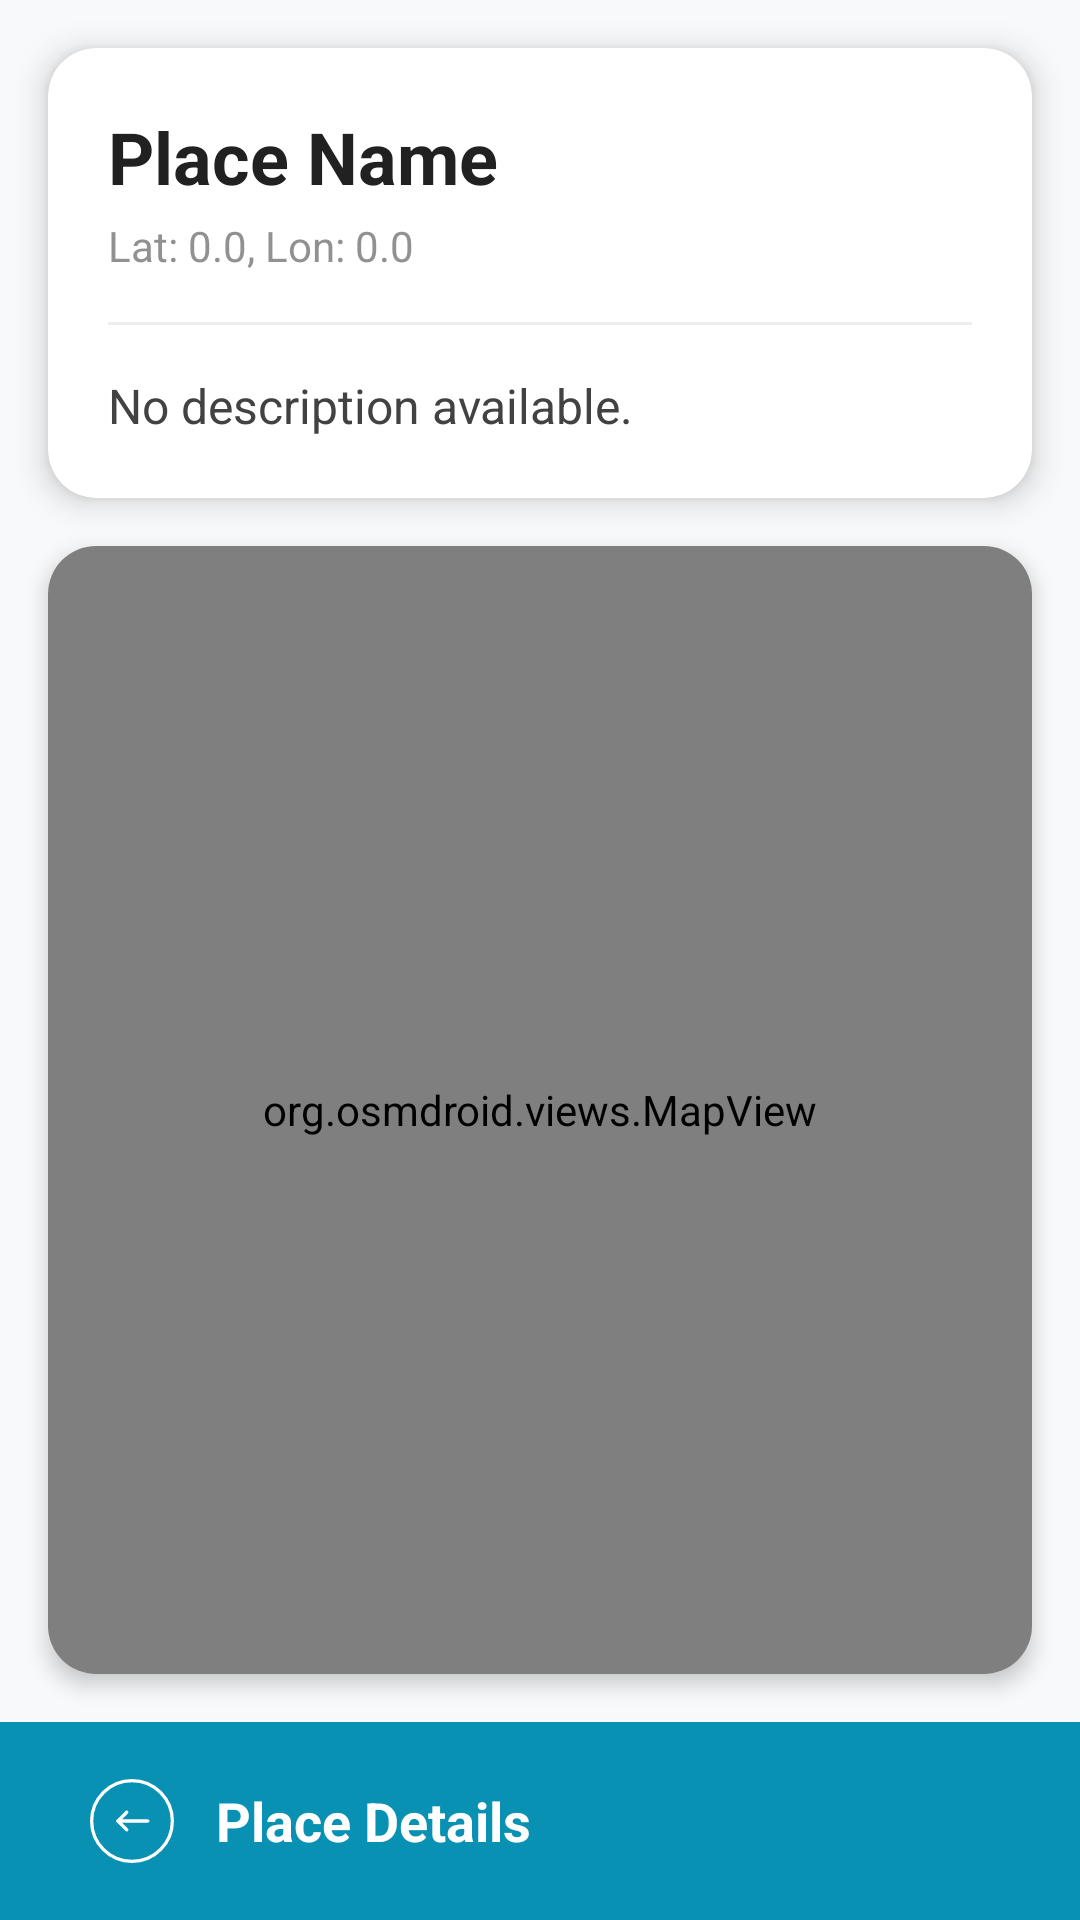

Icons on this 1080 x 1920 Android screen, each with the point to tap as (x,y):
back: (132,1821)
